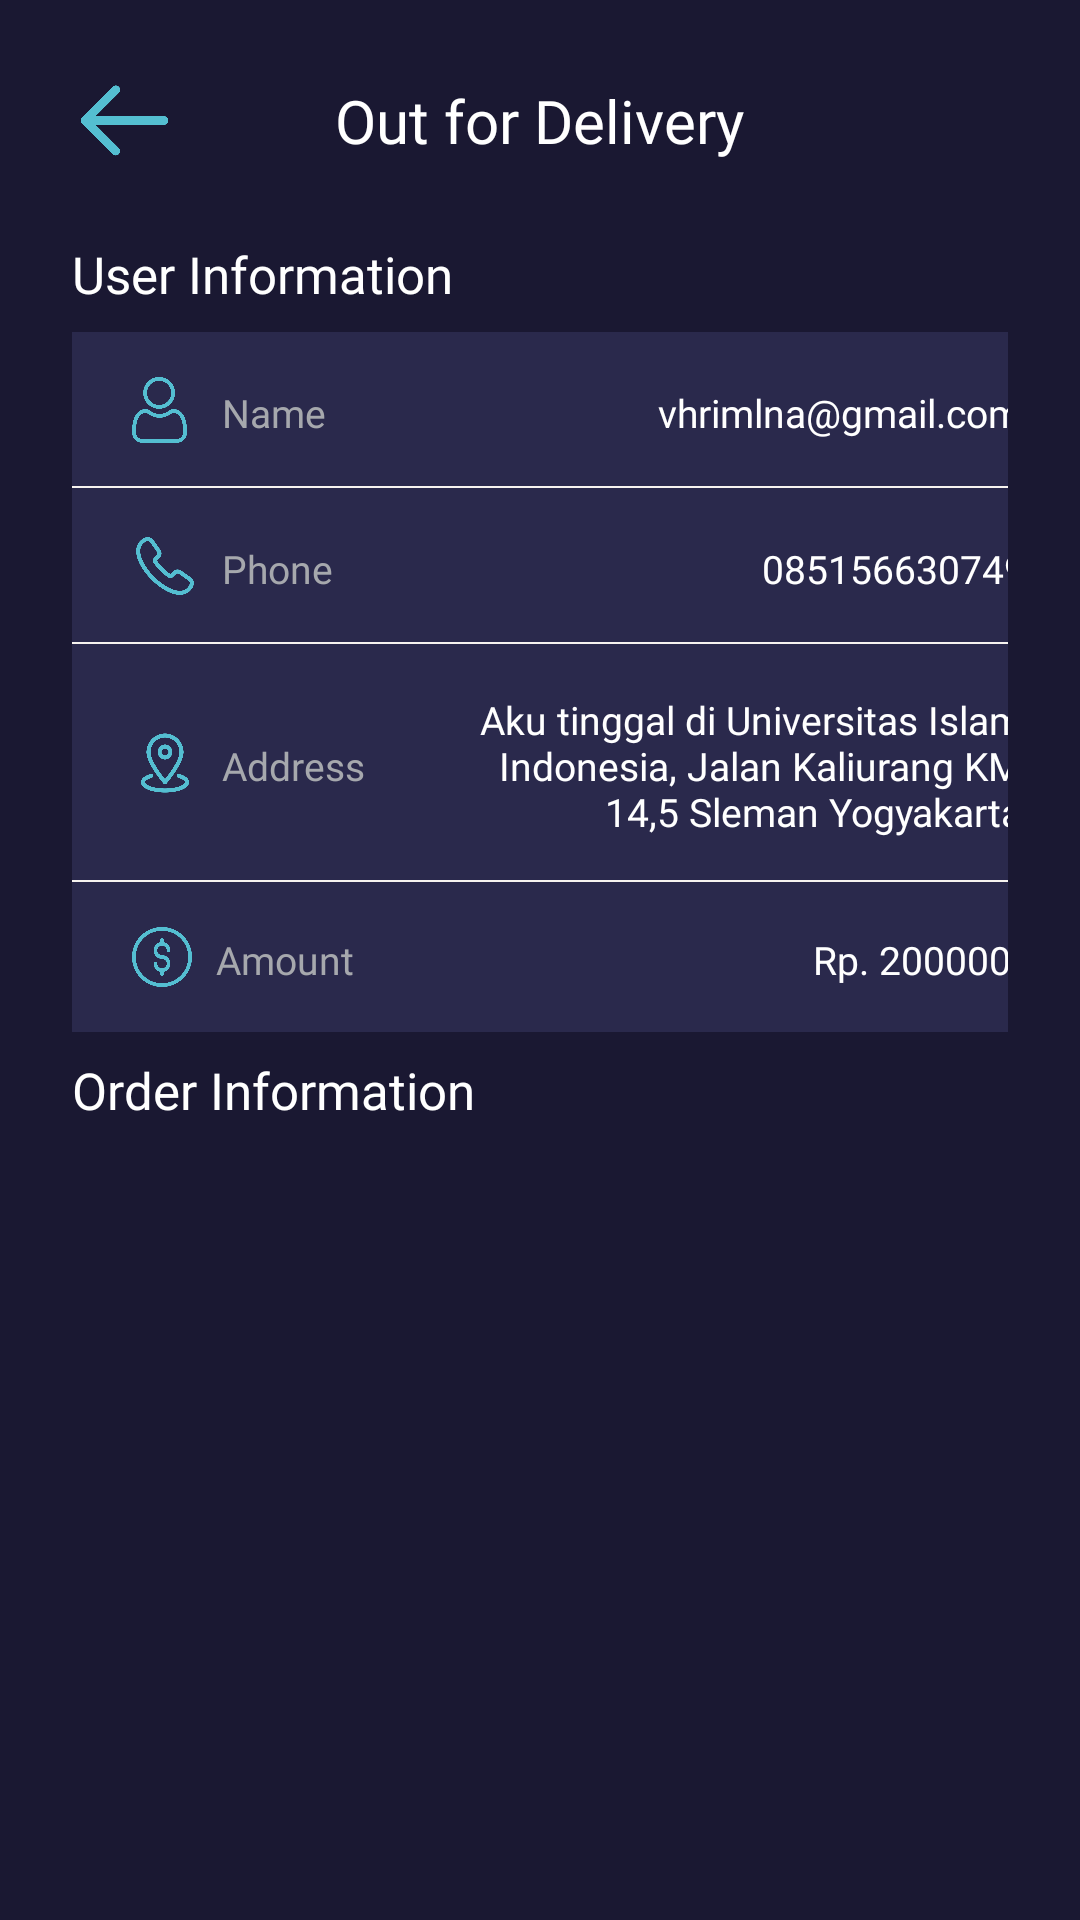

Named icons in this screenshot (1080 × 1920) and their bounding boxes, (x1, y1, x2, y2):
back: (81, 85, 168, 156)
location: (141, 733, 189, 793)
totalpay: (132, 927, 192, 987)
